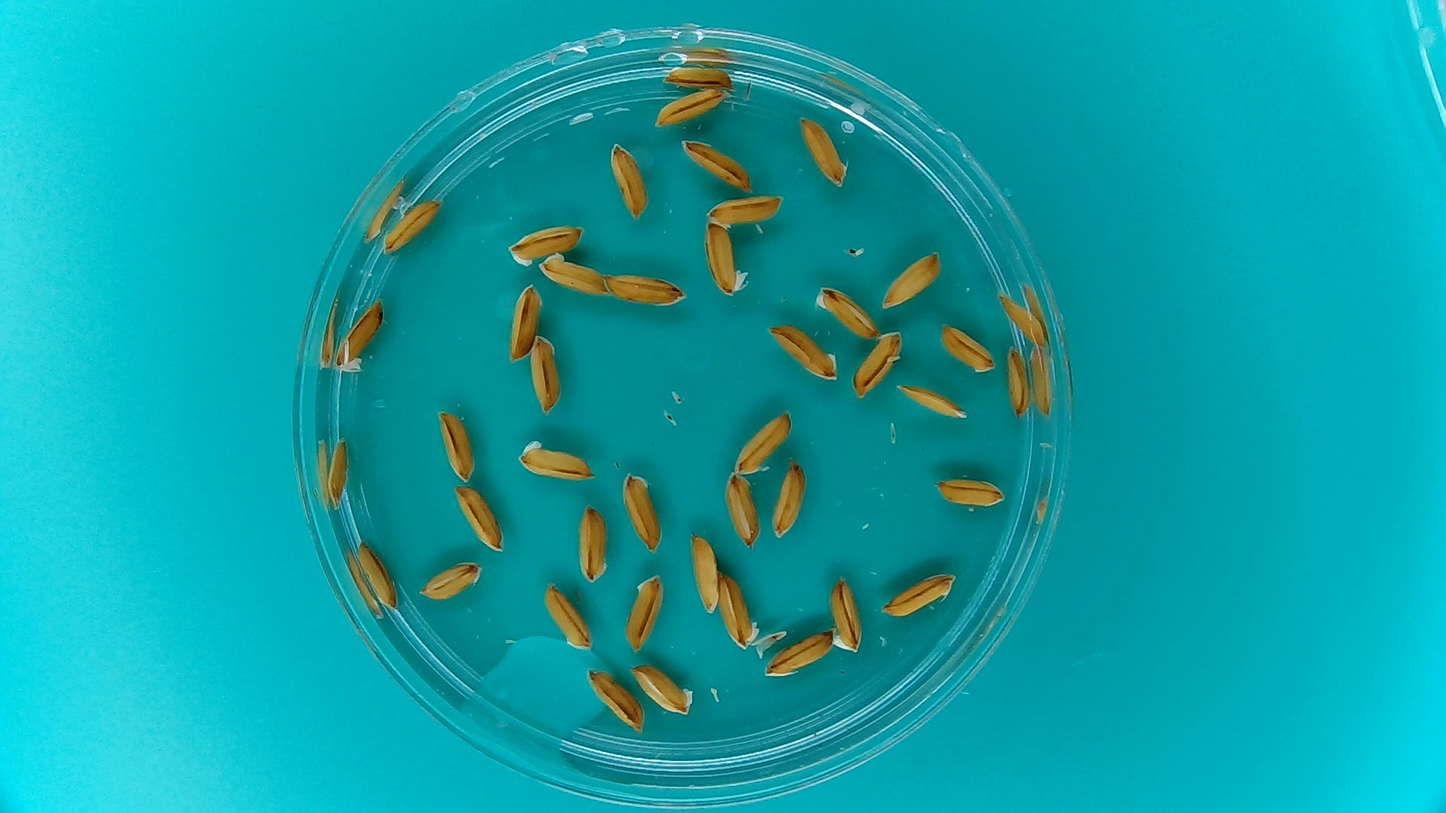no: (877, 245, 950, 312), (763, 320, 841, 382), (582, 662, 646, 733), (606, 136, 656, 224), (813, 279, 882, 342), (701, 217, 753, 300), (679, 135, 753, 193), (732, 407, 793, 476), (797, 113, 851, 190), (850, 326, 905, 401), (380, 193, 444, 256), (619, 467, 664, 556), (453, 481, 508, 552), (505, 219, 586, 266), (352, 537, 401, 614), (541, 579, 593, 651), (716, 572, 763, 651), (630, 661, 696, 717), (881, 570, 959, 617), (515, 439, 596, 484), (538, 251, 612, 300), (600, 267, 685, 309), (762, 631, 837, 678), (505, 282, 545, 368), (624, 571, 665, 653), (653, 84, 731, 127), (935, 322, 996, 376), (529, 330, 566, 417), (433, 405, 475, 481), (571, 502, 609, 585), (418, 559, 485, 604), (827, 577, 865, 655), (688, 532, 724, 614), (895, 383, 969, 422), (772, 458, 807, 539), (725, 468, 758, 547), (998, 291, 1045, 346), (934, 477, 1008, 510), (1003, 343, 1033, 418), (326, 434, 351, 508)
yes: (337, 294, 388, 370)
